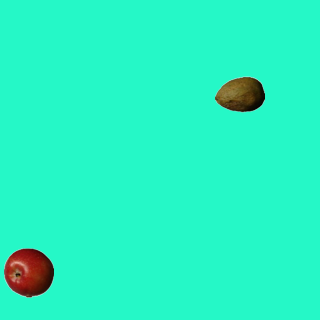Apple Braeburn: (3, 247, 53, 297)
Papaya: (214, 69, 264, 119)
